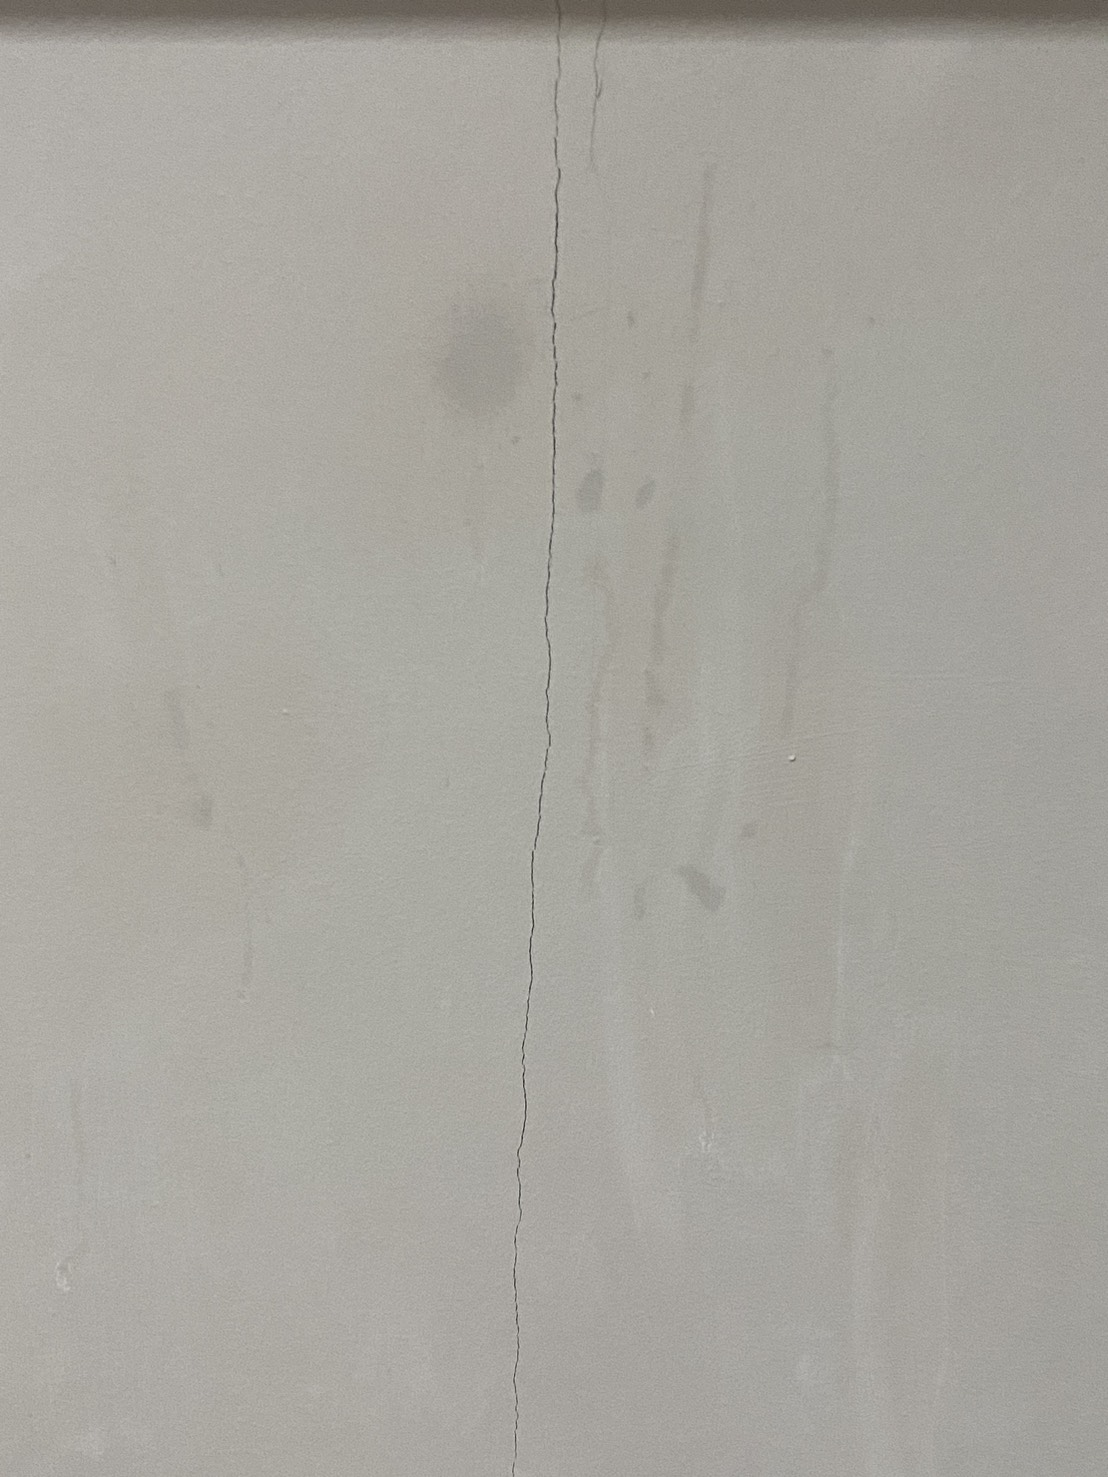Medium: (482, 111, 623, 1413)
